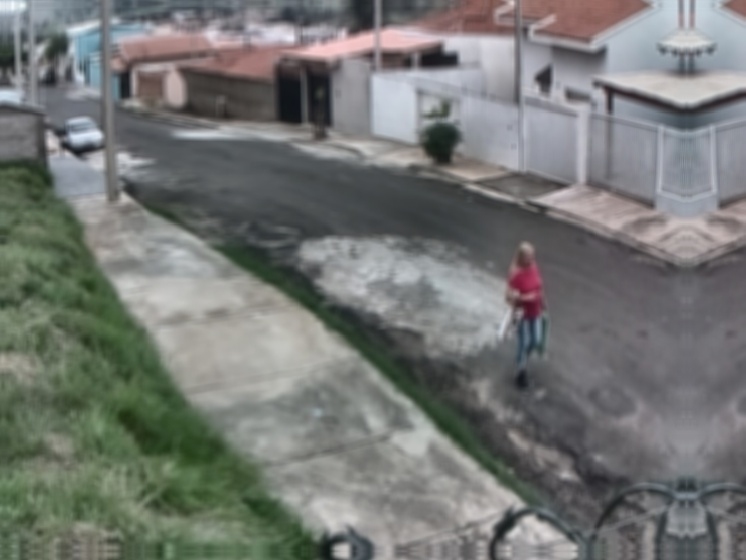person: (503, 241, 549, 395)
